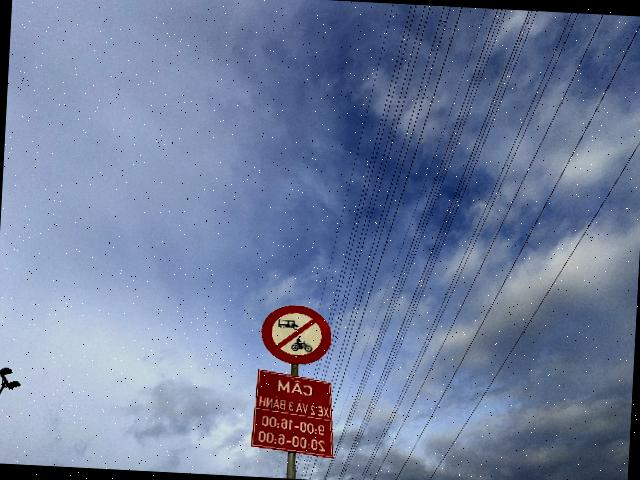cam-xe-2-banh-3-banh: (260, 304, 334, 366)
